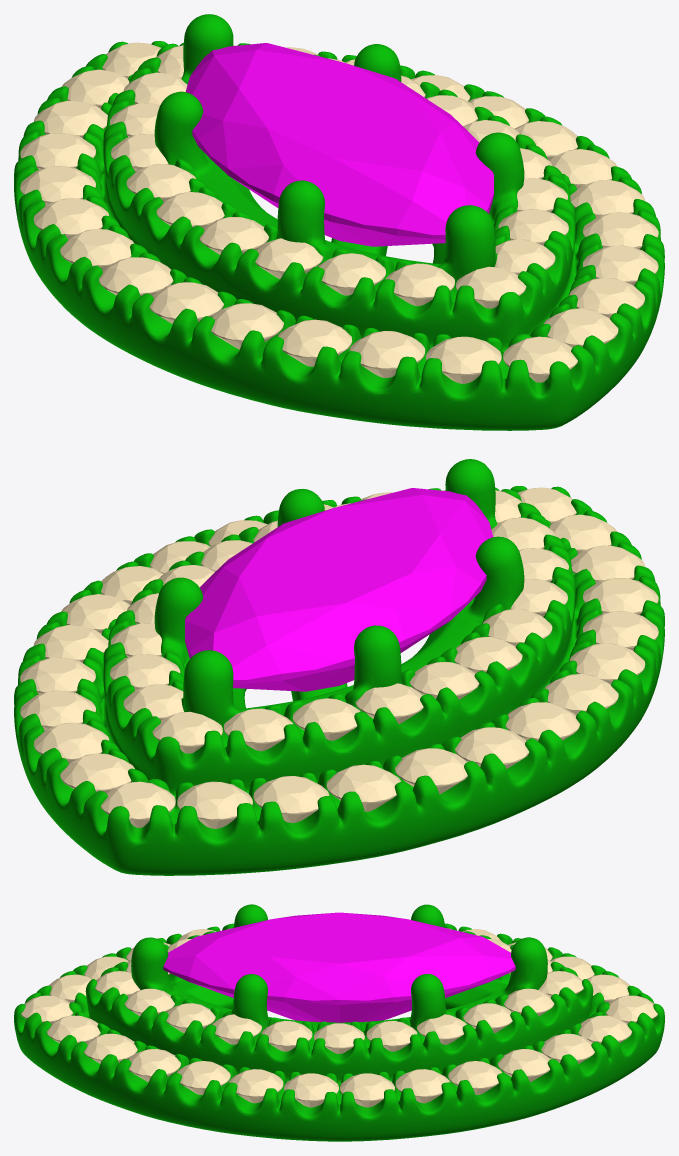
3 renders of one model, top to bottom at view 1: azimuth 30°, elevation 25°; view 2: azimuth 150°, elevation 25°; view 3: azimuth 270°, elevation 25°, orthographic. The views are drawn at different scales.
Parts seen in each view (by area): view 1: Metal01, Diamond_Marquise, Diamond_Round.003, Diamond_Round.004, Diamond_Round.005, Diamond_Round.006, Diamond_Round.008, Diamond_Round.007, Diamond_Round.009, Diamond_Round.002, Diamond_Round.024, Diamond_Round.010 (+30 smaller); view 2: Metal01, Diamond_Marquise, Diamond_Round.014, Diamond_Round.013, Diamond_Round.012, Diamond_Round.011, Diamond_Round.009, Diamond_Round.010, Diamond_Round.008, Diamond_Round.015, Diamond_Round.025, Diamond_Round.007 (+30 smaller); view 3: Metal01, Diamond_Marquise, Diamond_Round.021, Diamond_Round.020, Diamond_Round.019, Diamond_Round.022, Diamond_Round.023, Diamond_Round.018, Diamond_Round.017, Diamond_Round, Diamond_Round.016, Diamond_Round.001 (+19 smaller).
Boxes of the visible parts, x1,y1,x2,y2 form: Metal01: (14, 14, 664, 430); Diamond_Marquise: (185, 43, 493, 246); Diamond_Round.003: (426, 336, 501, 383); Diamond_Round.004: (349, 331, 425, 377); Diamond_Round.005: (278, 319, 352, 366); Diamond_Round.006: (211, 303, 283, 349); Diamond_Round.008: (99, 257, 173, 296); Diamond_Round.007: (149, 282, 223, 323); Diamond_Round.009: (60, 229, 134, 270); Diamond_Round.002: (544, 308, 618, 347); Diamond_Round.024: (503, 336, 577, 382); Diamond_Round.010: (33, 198, 108, 239); Metal01: (14, 459, 664, 875); Diamond_Marquise: (185, 488, 493, 691); Diamond_Round.014: (177, 781, 252, 828); Diamond_Round.013: (253, 776, 329, 822); Diamond_Round.012: (326, 764, 400, 811); Diamond_Round.011: (395, 748, 467, 794); Diamond_Round.009: (505, 702, 579, 741); Diamond_Round.010: (455, 727, 529, 768); Diamond_Round.008: (544, 674, 618, 715); Diamond_Round.015: (60, 753, 134, 792); Diamond_Round.025: (101, 781, 175, 827); Diamond_Round.007: (569, 643, 645, 684); Metal01: (14, 904, 664, 1141); Diamond_Marquise: (163, 912, 515, 1022); Diamond_Round.021: (284, 1073, 338, 1107); Diamond_Round.020: (340, 1073, 394, 1107); Diamond_Round.019: (395, 1069, 449, 1103); Diamond_Round.022: (229, 1069, 283, 1103); Diamond_Round.023: (177, 1061, 230, 1094); Diamond_Round.018: (448, 1061, 501, 1094); Diamond_Round.017: (498, 1049, 550, 1082); Diamond_Round: (128, 1049, 180, 1082); Diamond_Round.016: (541, 1033, 594, 1063); Diamond_Round.001: (84, 1033, 137, 1063).
Bounding box in the file's own units: 11.14 × 5.55 × 16.61.
